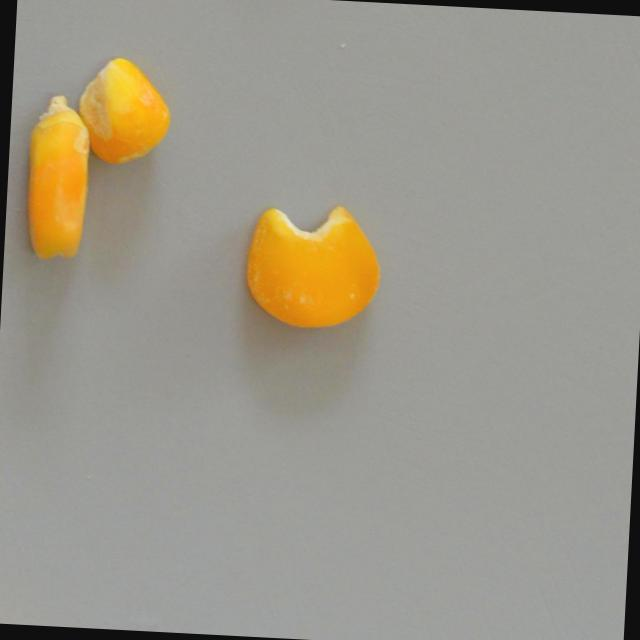entero: (16, 93, 96, 269)
pelicula: (243, 199, 385, 335), (74, 53, 175, 168)
